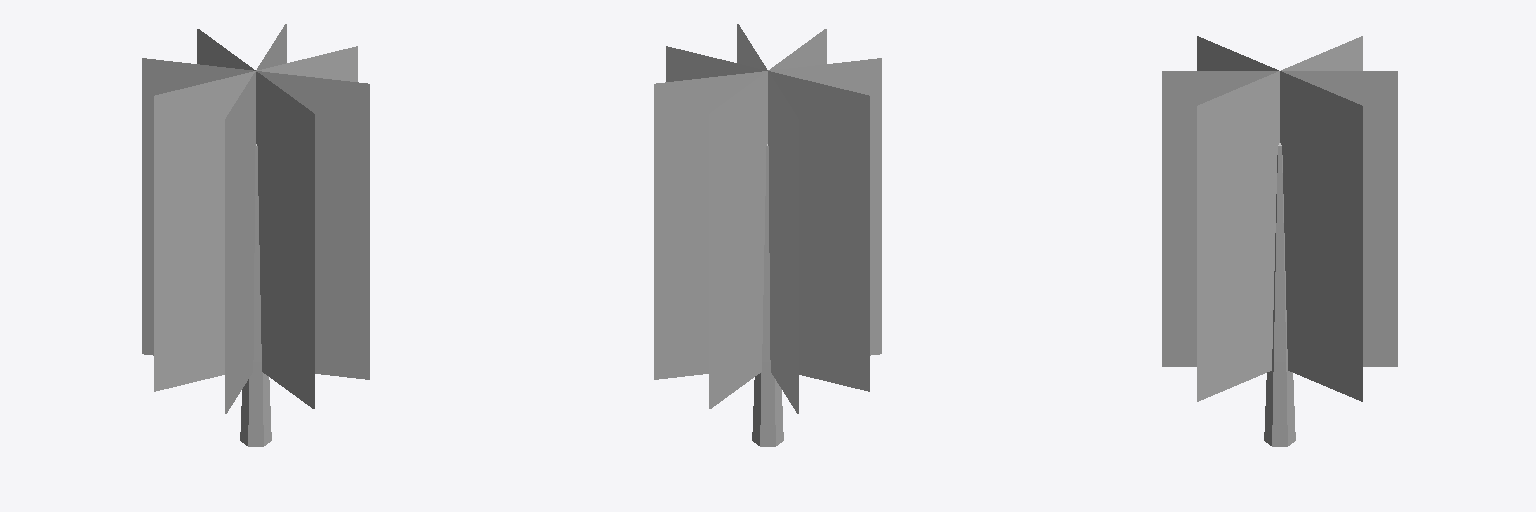
File: tree08.obj
3 views of the same model, side by side, from view 1: azimuth 30°, elevation 25°; view 2: azimuth 150°, elevation 25°; view 3: azimuth 270°, elevation 25° (orthographic).
Parts seen in each view (by area): view 1: tree08; view 2: tree08; view 3: tree08.
Boxes of the visible parts, x1,y1,x2,y2 form: tree08: [142, 24, 369, 446]; tree08: [654, 24, 881, 446]; tree08: [1162, 36, 1397, 446].
Bounding box in the file's own units: 7.2 × 12.5 × 7.2.